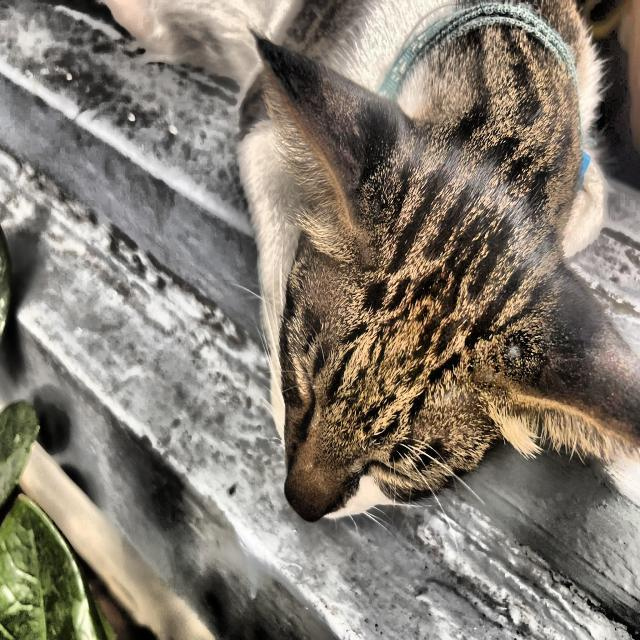Healthy skin: (458, 226, 632, 460), (261, 49, 405, 304), (274, 358, 446, 534)
